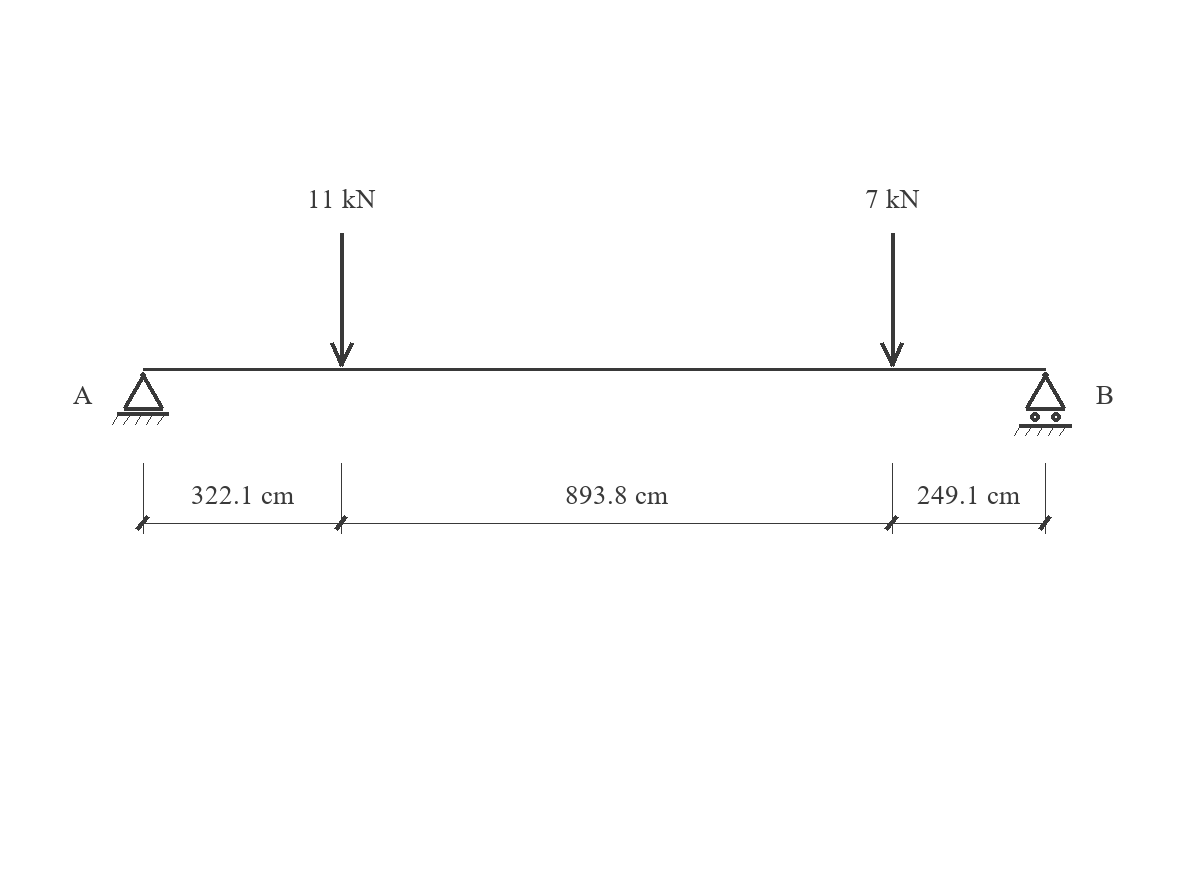pin_support: (112, 372, 169, 425)
point_load: (330, 233, 354, 367), (880, 233, 904, 367)
roller_support: (1014, 372, 1072, 436)
